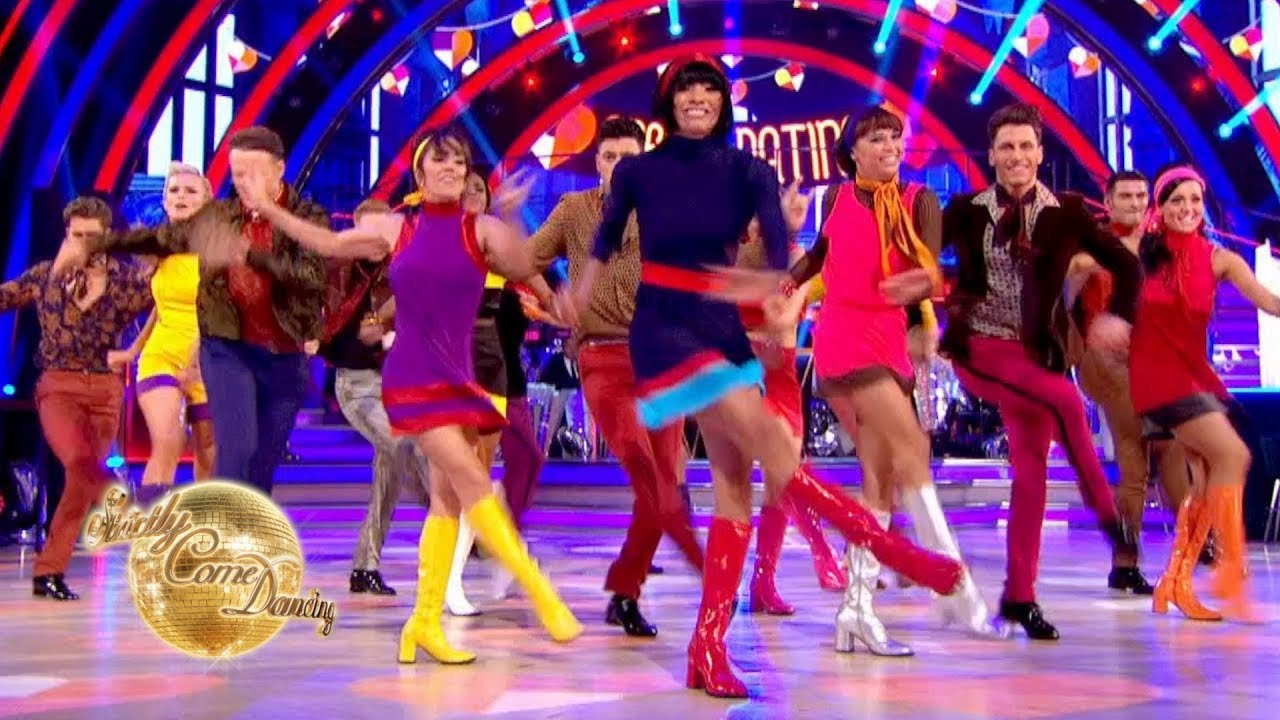bad: (985, 129, 1047, 191), (667, 73, 729, 135), (861, 118, 913, 170), (423, 141, 475, 193), (160, 175, 204, 218), (1164, 190, 1207, 233), (1113, 182, 1149, 218)
